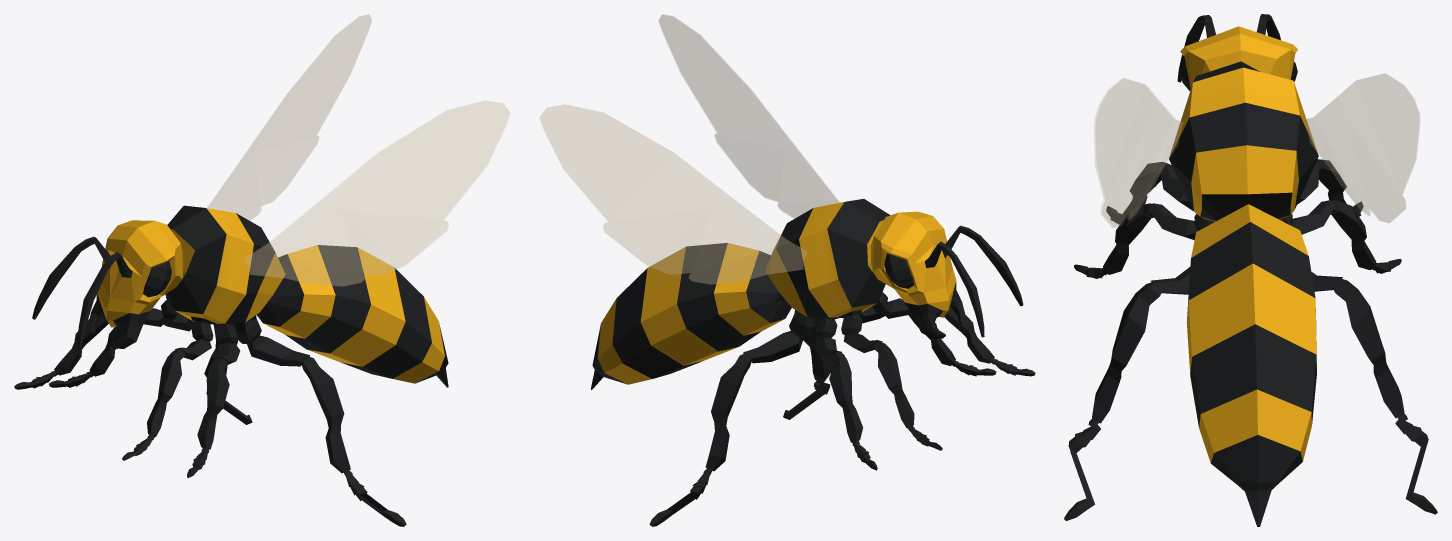
3 views of the same model, side by side, from view 1: azimuth 30°, elevation 25°; view 2: azimuth 150°, elevation 25°; view 3: azimuth 270°, elevation 25° (orthographic). The views are drawn at different scales.
Visible parts, largest first — view 1: beehive.006; view 2: beehive.006; view 3: beehive.006.
Part boxes in pixels (<box>): beehive.006: <box>14,14,510,526</box>; beehive.006: <box>539,14,1035,526</box>; beehive.006: <box>1064,14,1437,526</box>.
Bounding box in the file's own units: 6.26 × 5.77 × 3.98.
3 materials, 3 textured.
